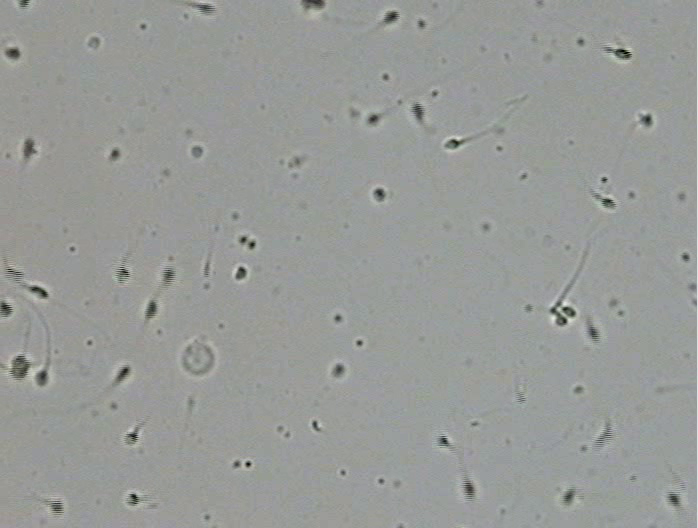Impurity: (182, 342, 214, 376), (87, 36, 100, 48)
S: (10, 354, 30, 379), (594, 427, 613, 449), (4, 267, 23, 284), (22, 138, 37, 159), (461, 479, 475, 501), (161, 266, 176, 286), (28, 285, 49, 299), (115, 266, 131, 284), (666, 490, 682, 508), (586, 325, 601, 344), (410, 101, 425, 120), (115, 366, 131, 383), (144, 300, 158, 319), (50, 499, 65, 516), (561, 488, 576, 505), (613, 47, 632, 60), (197, 3, 217, 15), (34, 370, 49, 386), (383, 10, 400, 24), (600, 197, 618, 210), (300, 1, 325, 10), (1, 300, 13, 318), (435, 434, 450, 448), (4, 48, 21, 60), (639, 113, 653, 127), (123, 433, 139, 445), (125, 493, 139, 506), (235, 265, 247, 280), (444, 139, 460, 150), (108, 148, 121, 161), (332, 364, 345, 377), (373, 188, 385, 202), (191, 146, 204, 158), (562, 306, 576, 317), (367, 113, 379, 124), (555, 316, 567, 326), (17, 1, 30, 10)
